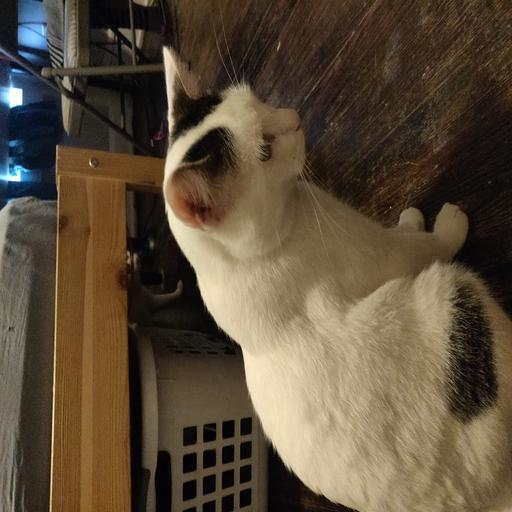cat: (161, 51, 464, 354)
